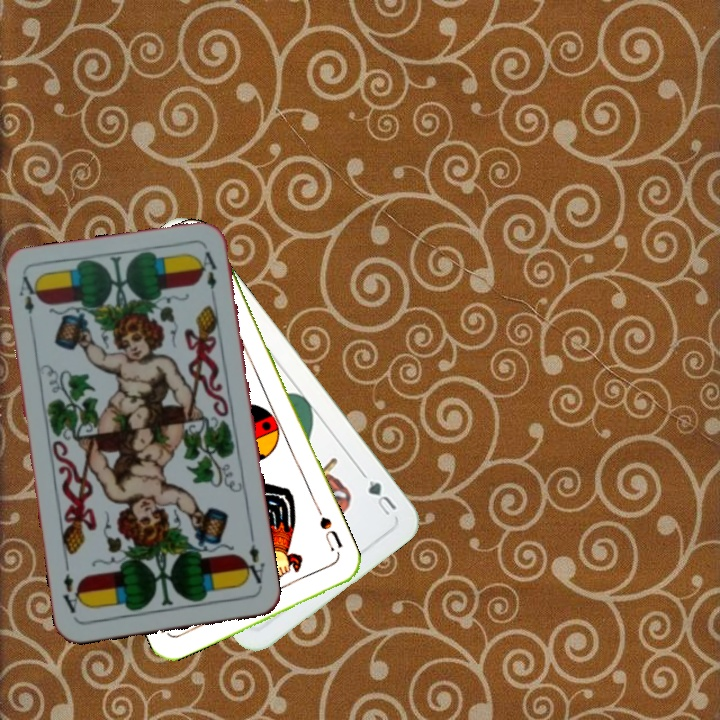EA: (239, 531, 268, 590), (14, 272, 40, 316)
GU: (364, 476, 400, 518)
SU: (313, 505, 345, 554)
